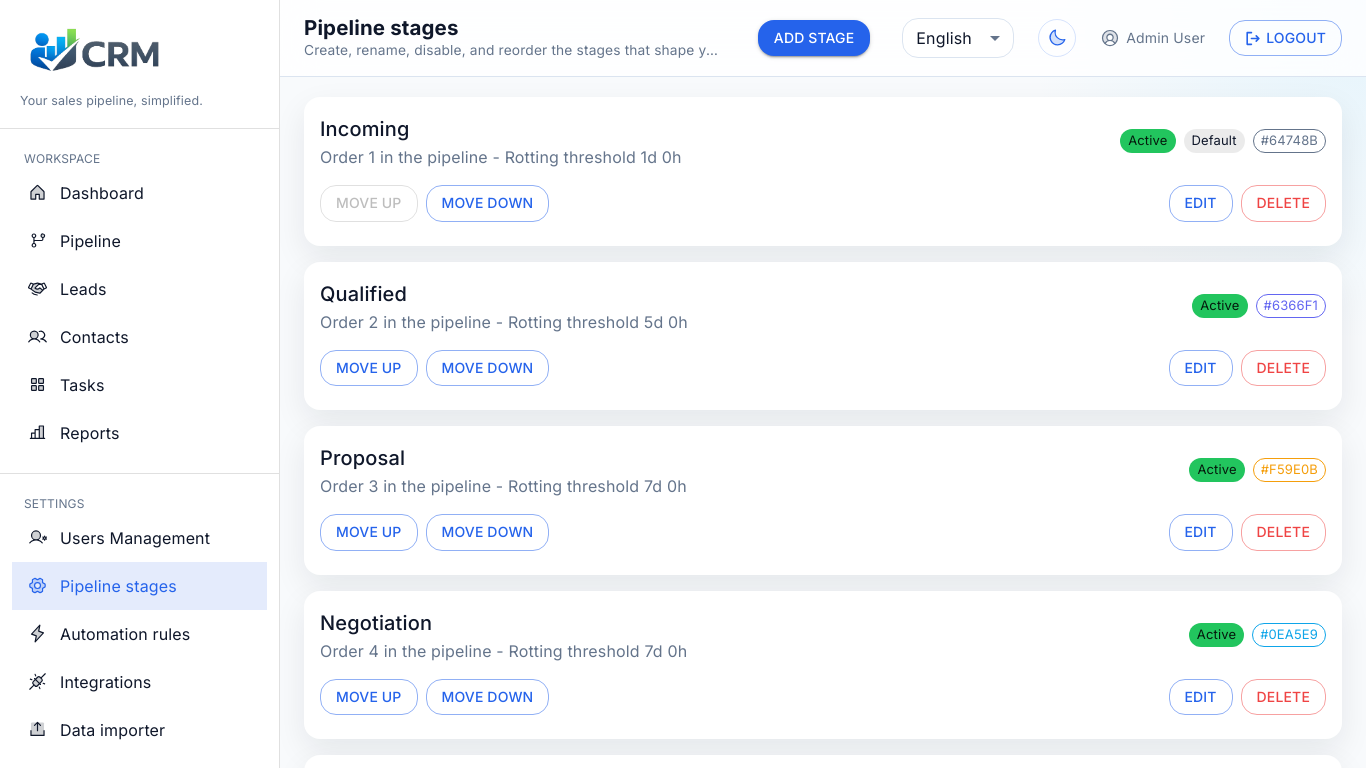
Pipeline feature › validates the create stage form
Check: the heading "Pipeline stages" is shown, box [304,15,459,40]
Click the button "Add stage".
click(814, 38)  # box [758,20,870,56]
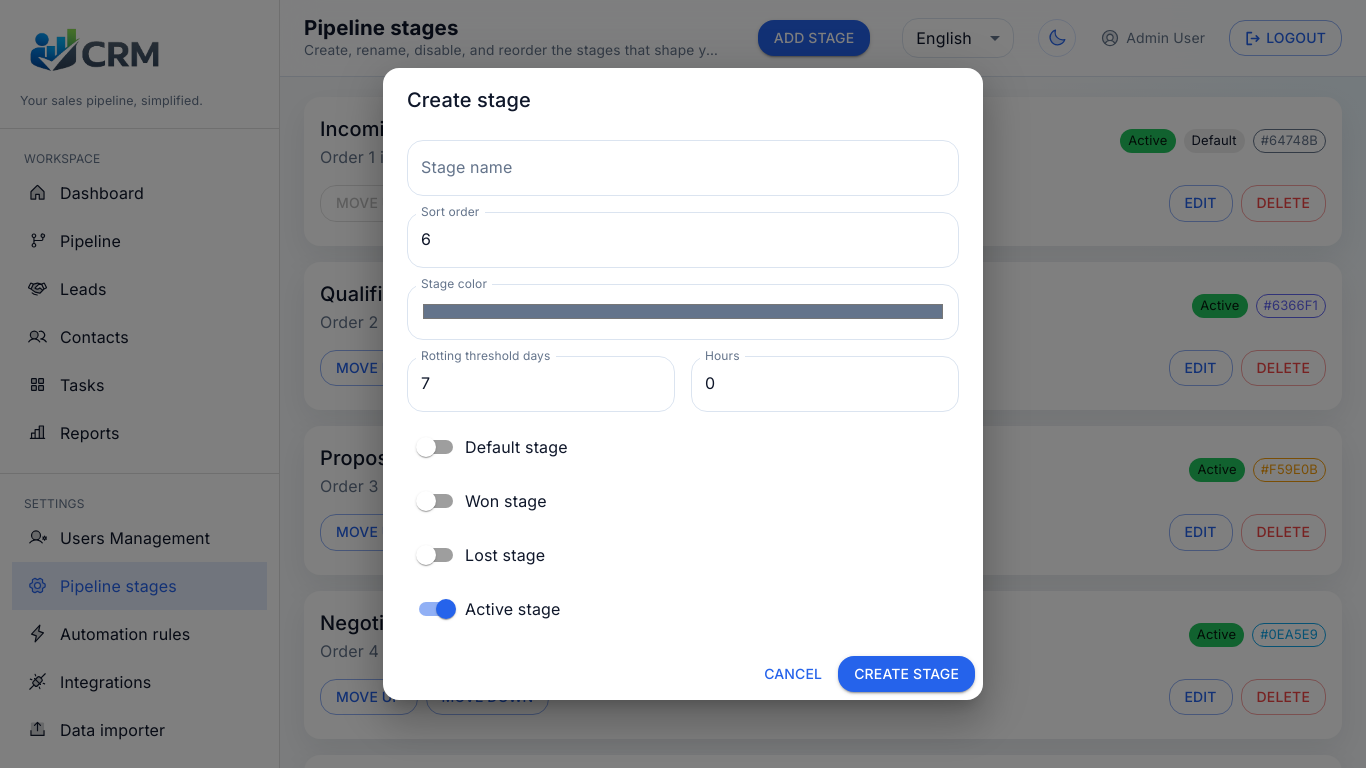
Click the button "Create stage".
click(907, 674)  # box [838,656,975,692]
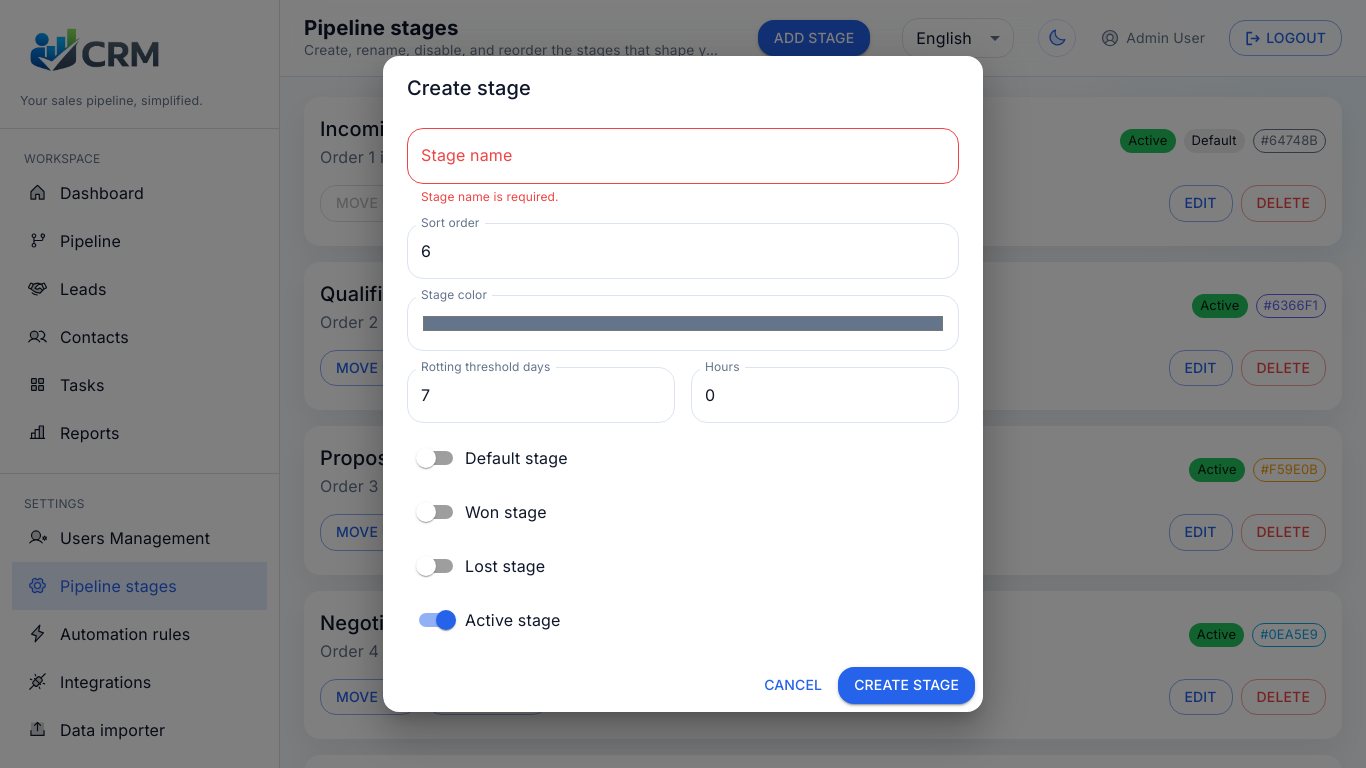
Check: the text "Stage name is required." is shown, box [421,189,559,204]
